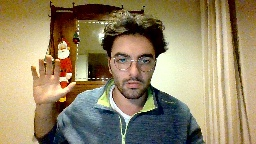Mano_aperta: (29, 53, 77, 103)
